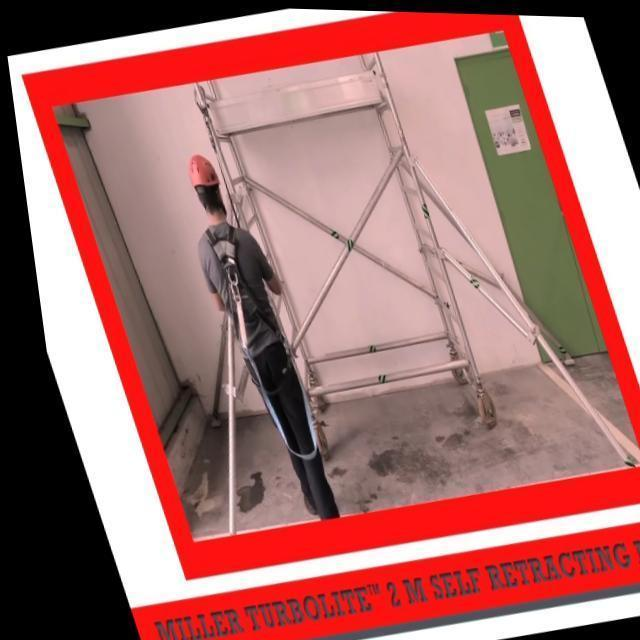Harness: (205, 225, 248, 356)
